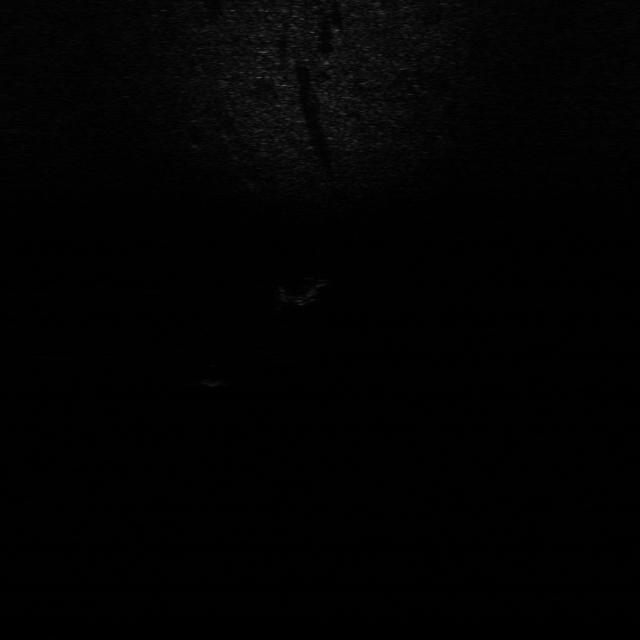ball: (196, 361, 230, 391)
human body: (273, 269, 337, 310)
